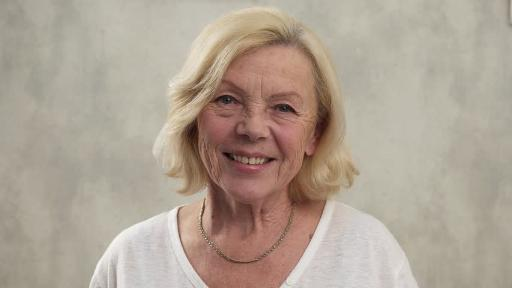left_eye: (272, 104, 301, 117)
left_lip_corner: (269, 156, 283, 167)
right_eye: (216, 97, 244, 110)
right_lip_corner: (218, 149, 231, 159)
